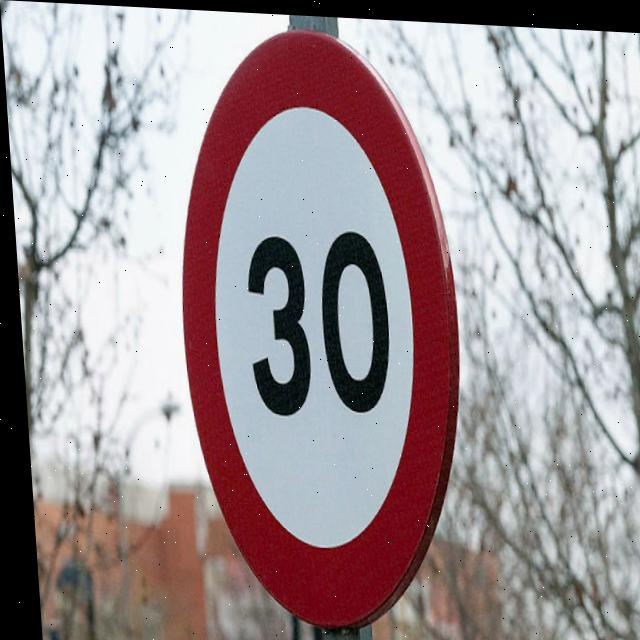Speed limit 30: (160, 20, 474, 634)
